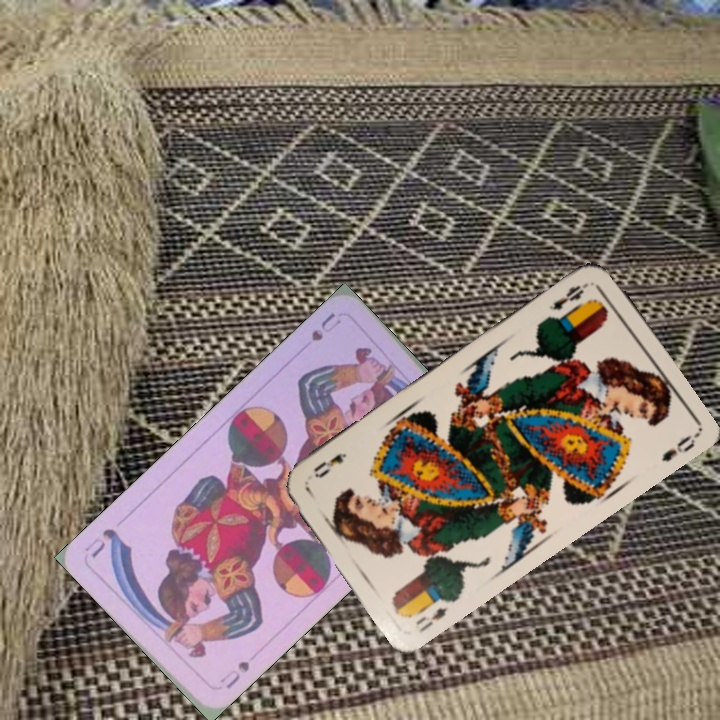EO: (544, 278, 591, 313), (411, 602, 451, 635)
SU: (307, 309, 345, 344), (216, 656, 252, 692)
